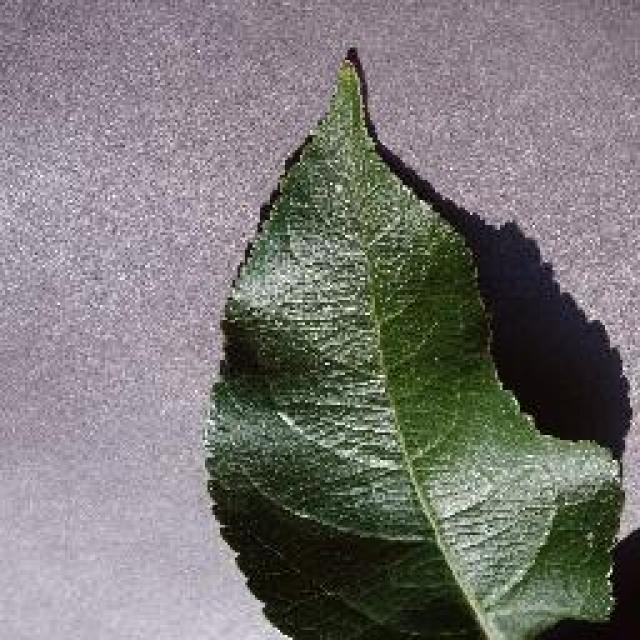apple healthy: (200, 42, 635, 638)
